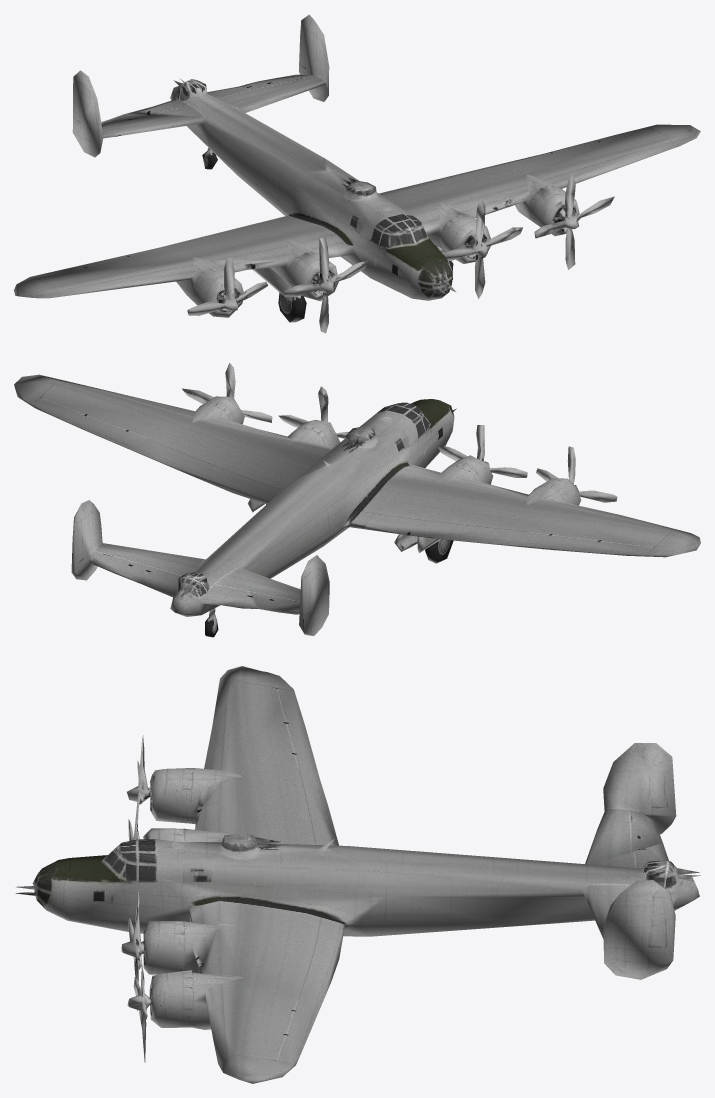
The model's file is realistic-cc0.f77cec64a90b.bomber.glb.
3 views of the same model, one above another, from view 1: azimuth 30°, elevation 25°; view 2: azimuth 150°, elevation 25°; view 3: azimuth 270°, elevation 25° (orthographic). The views are drawn at different scales.
Parts seen in each view (by area): view 1: bomber; view 2: bomber; view 3: bomber.
Boxes of the visible parts, x1,y1,x2,y2 form: bomber: (14,14,700,333); bomber: (14,363,700,637); bomber: (15,666,700,1083).
Bounding box in the file's own units: 29.94 × 5.73 × 21.
Materials: 1 (1 with a texture image).
